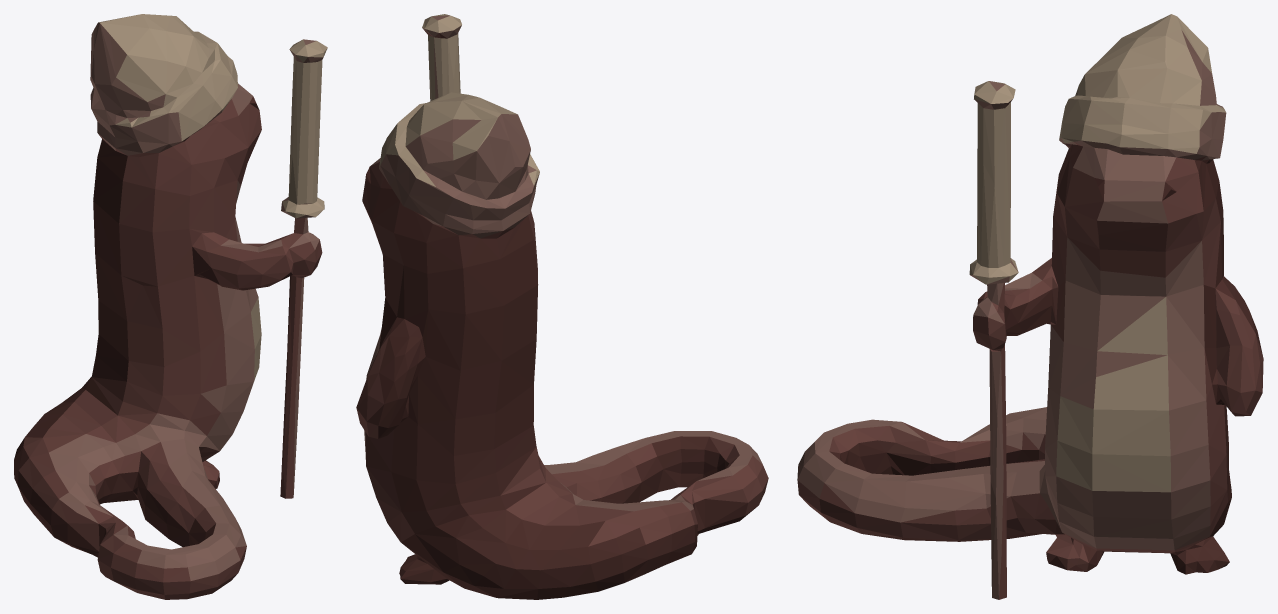
The picture shows the model from 3 angles, left to right: view 1: azimuth 30°, elevation 25°; view 2: azimuth 150°, elevation 25°; view 3: azimuth 270°, elevation 25°; orthographic projection. The views are drawn at different scales.
Visible parts, largest first — view 1: lion-1500; view 2: lion-1500; view 3: lion-1500.
Boxes of the visible parts, x1,y1,x2,y2 form: lion-1500: [14, 14, 327, 599]; lion-1500: [356, 14, 768, 599]; lion-1500: [797, 14, 1263, 599].
Size of the model in its own units: 0.6221 by 1 by 0.8078.
